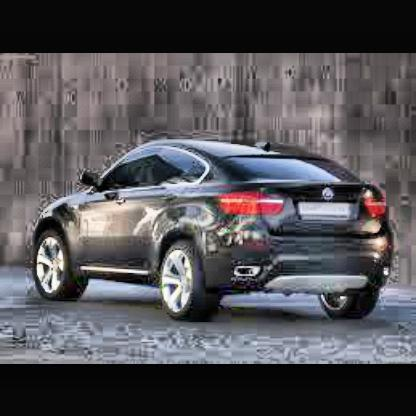BMW X6 SUV 2012: (28, 140, 394, 324)
